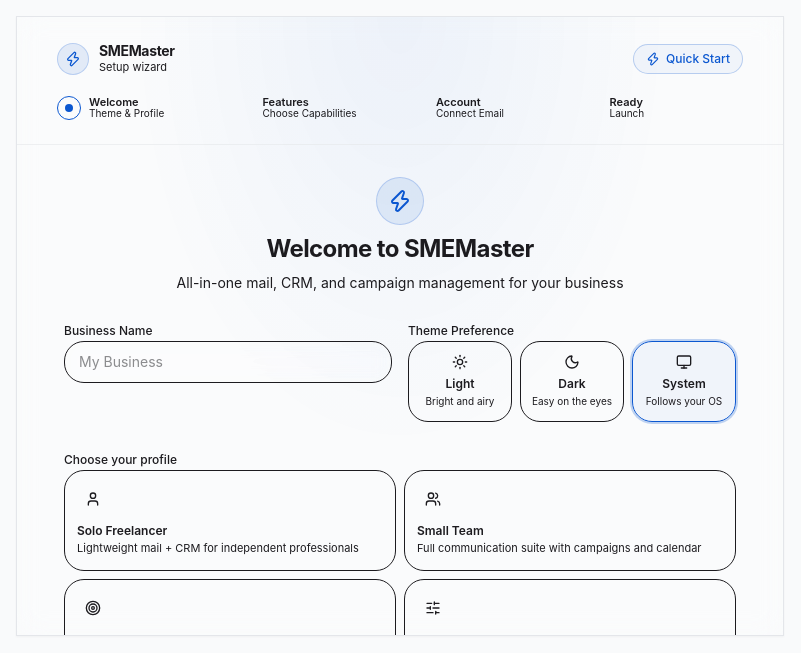
Test case: OnboardingScreen › navigates to tools step after clicking Continue
The width and height of the screenshot is (801, 653).
Click the text "Solo Freelancer" at (122, 530), box x1=77 y1=523 x2=167 y2=538
(page scrolled)
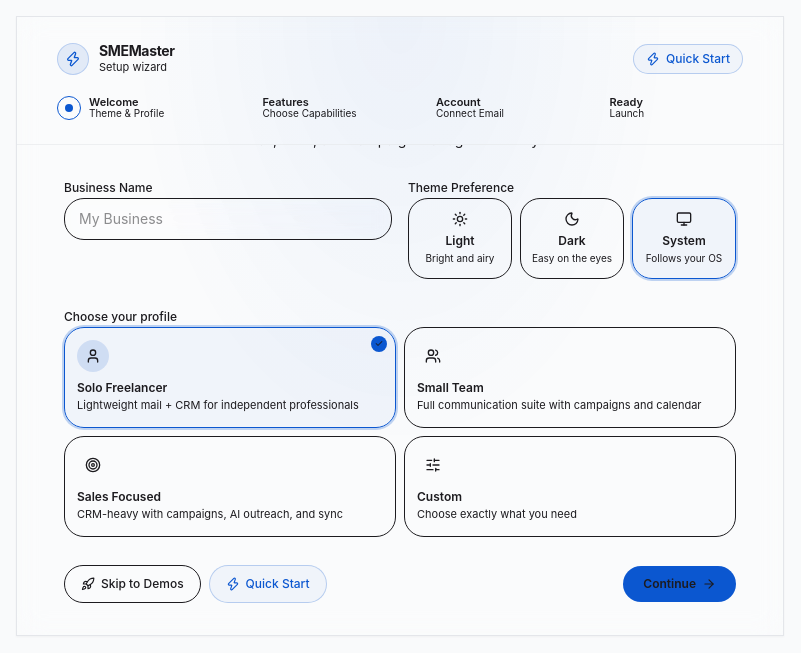
Click the button "Continue" at (680, 584), box x1=623 y1=566 x2=736 y2=602
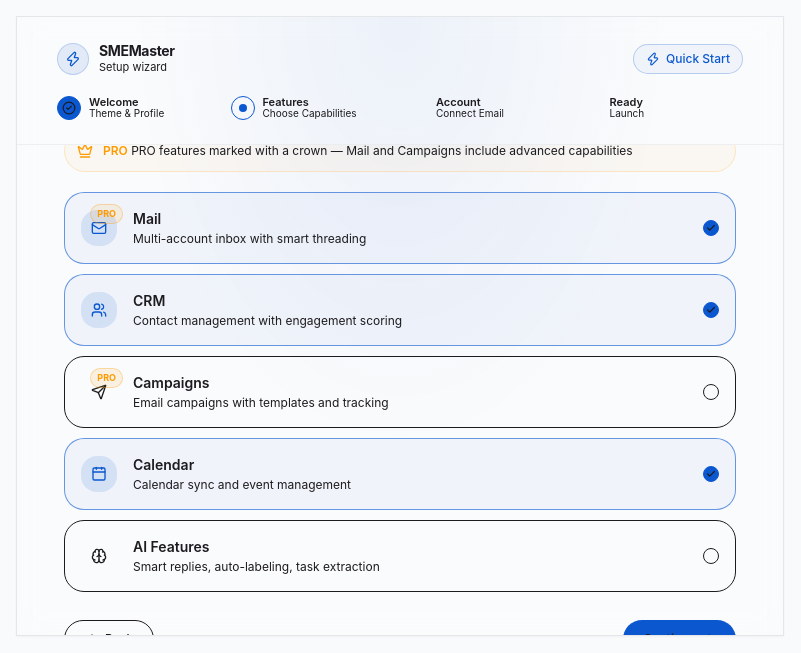
Expected: the text "CRM" is shown, x1=133 y1=292 x2=165 y2=310
Now the text "Mail" is shown, box x1=133 y1=210 x2=161 y2=228
